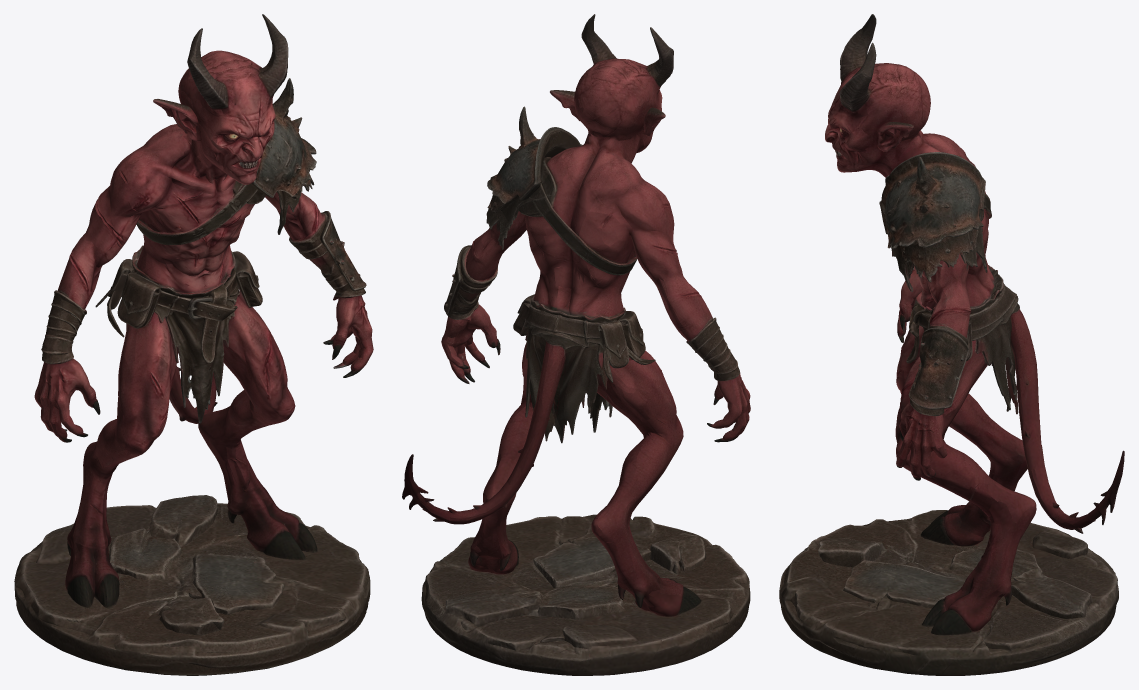
The model's file is skirm_meshy_raw.glb.
3 renders of one model, left to right at view 1: azimuth 30°, elevation 25°; view 2: azimuth 150°, elevation 25°; view 3: azimuth 270°, elevation 25°, orthographic. The views are drawn at different scales.
Parts seen in each view (by area): view 1: Mesh_0; view 2: Mesh_0; view 3: Mesh_0.
Boxes of the visible parts, left/top/right/bottom form: Mesh_0: left=14, top=14, right=373, bottom=675; Mesh_0: left=402, top=14, right=750, bottom=675; Mesh_0: left=779, top=14, right=1124, bottom=675.
Size of the model in its own units: 1.07 by 1.9 by 1.03.
Materials: 1 (1 with a texture image).
